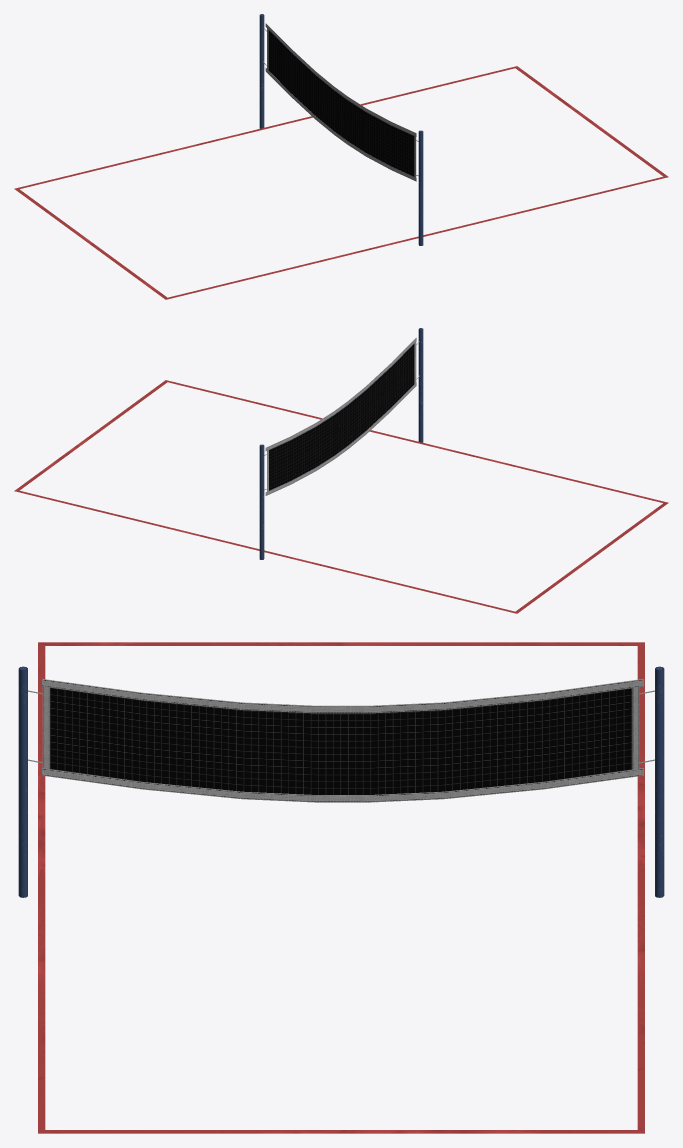
The model's file is MB_Volleyball_Net.fbx.
3 views of the same model, one above another, from view 1: azimuth 30°, elevation 25°; view 2: azimuth 150°, elevation 25°; view 3: azimuth 270°, elevation 25° (orthographic). The views are drawn at different scales.
Parts seen in each view (by area): view 1: MB_Volleyball_Net_LOD0; view 2: MB_Volleyball_Net_LOD0; view 3: MB_Volleyball_Net_LOD0.
Boxes of the visible parts, bbox=[...] form: MB_Volleyball_Net_LOD0: bbox=[14, 14, 668, 299]; MB_Volleyball_Net_LOD0: bbox=[14, 328, 668, 613]; MB_Volleyball_Net_LOD0: bbox=[18, 642, 664, 1133].
Size of what is drawn, in the model's own units: 1560 by 337 by 866.
